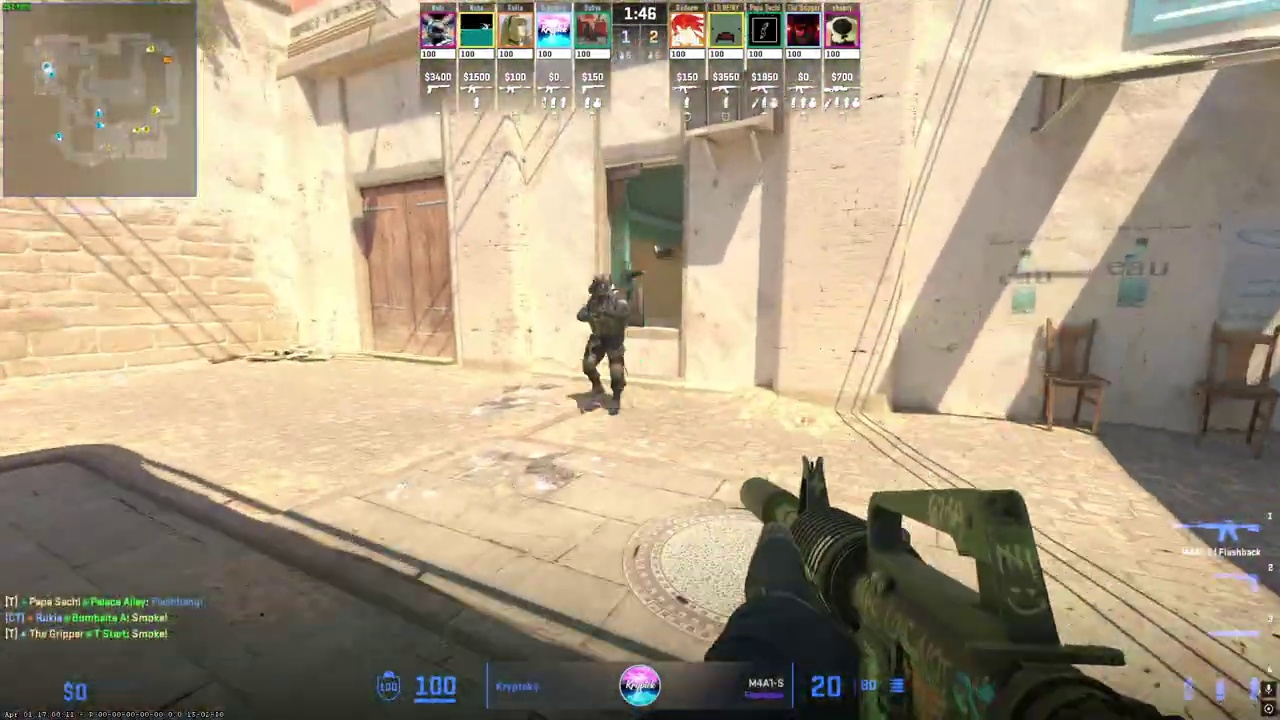CT: (577, 275, 631, 414)
